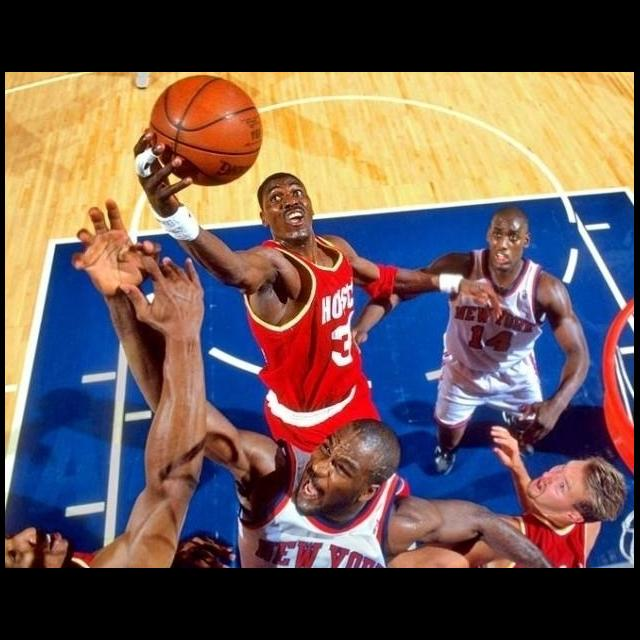basketball: (150, 76, 263, 187)
